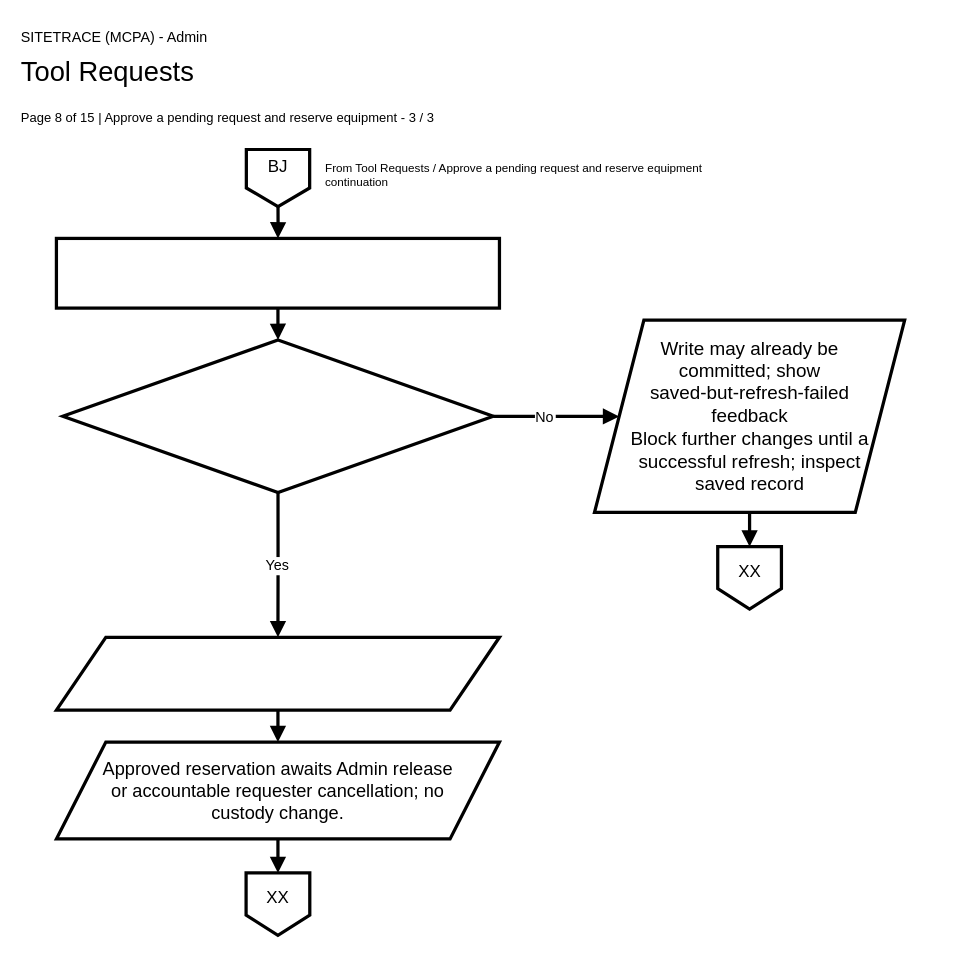
Image size: 975x959. Some labels were removed from this diagram. Each missing label, with the centre of its shape:
"Committed records refreshed?" belongs at point 277,416.
"Read committed snapshot and rebuild list/detail" belongs at point 277,272.
"Show approval success; request tools reserved and ready for release" belongs at point 277,673.
